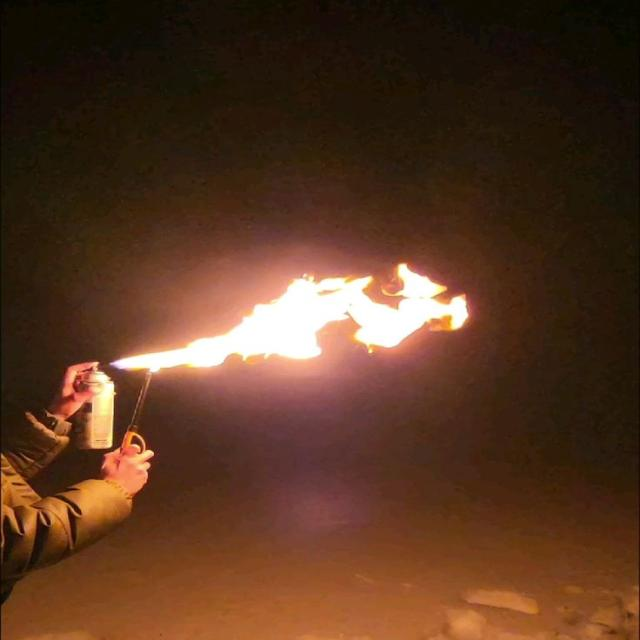fire: (107, 264, 469, 375)
